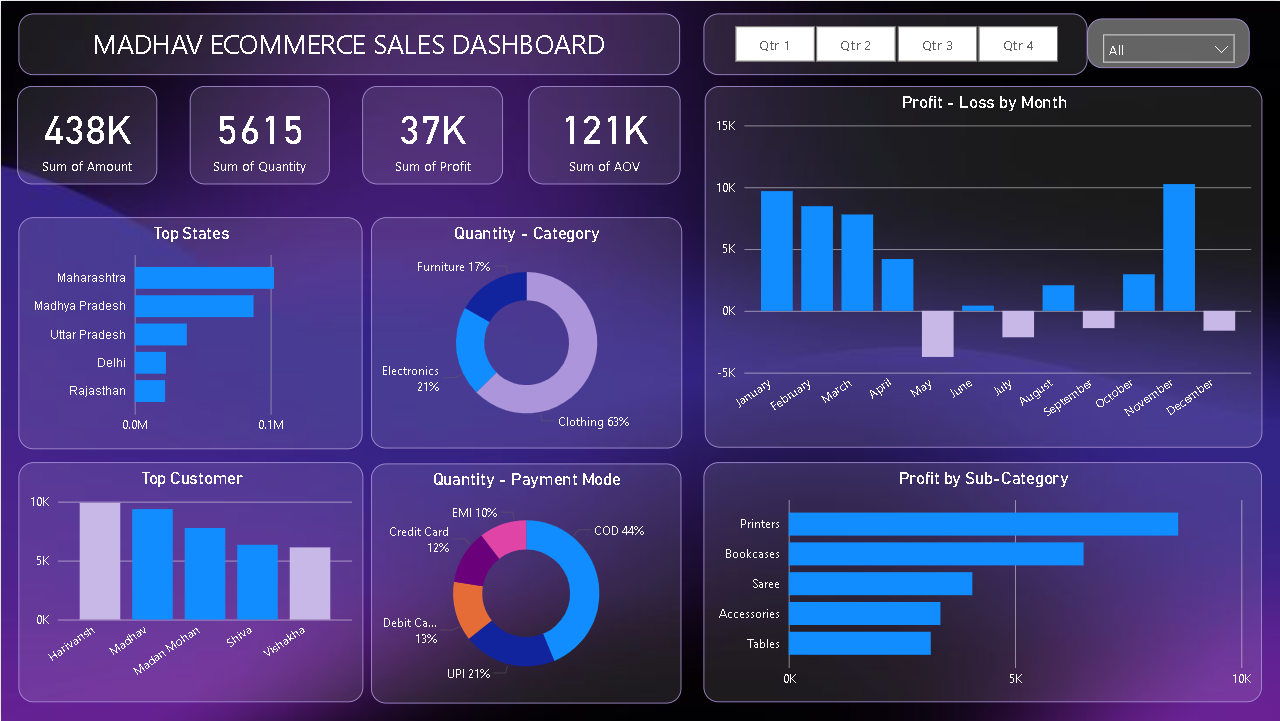

What the dashboard file says about the page in this screenshot:
{"tool":"powerbi","page":{"name":"Page 1","canvas":[1280,720],"ordinal":0},"visuals":[{"type":"textbox","box":[18.1,12,661.4,61.4],"z":0},{"type":"columnChart","title":"Profit - Loss by Month","fields":{"Y":["Details.Profit"],"Category":["Orders.Order Date.Variation.Date Hierarchy.Month"]},"box":[703.6,85.5,557.8,361.4],"z":1000},{"type":"barChart","title":"Profit by Sub-Category","fields":{"Category":["Details.Sub-Category"],"Y":["Details.Profit"]},"box":[702.1,460.9,558.6,240.1],"z":2000},{"type":"donutChart","title":"Quantity - Category","fields":{"Category":["Details.Category"],"Y":["Details.Quantity"]},"box":[369.9,215.7,310.8,231.3],"z":3000},{"type":"donutChart","title":"Quantity - Payment Mode","fields":{"Y":["Details.Quantity"],"Category":["Details.PaymentMode"]},"box":[370.4,462.1,310.1,240.1],"z":4000},{"type":"card","fields":{"Values":["Details.Amount"]},"box":[16.9,85.5,139.8,98.8],"z":5000},{"type":"card","fields":{"Values":["Details.Quantity"]},"box":[189.2,85.5,139.8,98.8],"z":6000},{"type":"card","fields":{"Values":["Details.Profit"]},"box":[361.4,85.5,141,98.8],"z":7000},{"type":"card","fields":{"Values":["Details.AOV"]},"box":[527.7,85.5,151.8,98.8],"z":8000},{"type":"barChart","title":"Top States","fields":{"Y":["Details.Amount"],"Category":["Orders.State"]},"box":[18,216,343.8,231.6],"z":9000},{"type":"columnChart","title":"Top Customer","fields":{"Category":["Orders.CustomerName"],"Y":["Details.Amount"]},"box":[16.9,460.9,345,240.1],"z":10000},{"type":"slicer","fields":{"Values":["Orders.Order Date.Variation.Date Hierarchy.Quarter"]},"box":[702.4,12,384.3,61.4],"z":11000},{"type":"slicer","fields":{"Values":["Orders.State"]},"box":[1086.7,18.1,162.7,49.4],"z":12000}]}

Visuals, with their boxes in screenshot pixels (x1, y1, x2, y2), scaled from the page's 1280x720 canvas onto the 1280x721 screenshot:
textbox: l=18, t=12, r=680, b=74
"Profit - Loss by Month" columnChart: l=704, t=86, r=1261, b=448
"Profit by Sub-Category" barChart: l=702, t=462, r=1261, b=702
"Quantity - Category" donutChart: l=370, t=216, r=681, b=448
"Quantity - Payment Mode" donutChart: l=370, t=463, r=680, b=703
card - Details.Amount: l=17, t=86, r=157, b=185
card - Details.Quantity: l=189, t=86, r=329, b=185
card - Details.Profit: l=361, t=86, r=502, b=185
card - Details.AOV: l=528, t=86, r=680, b=185
"Top States" barChart: l=18, t=216, r=362, b=448
"Top Customer" columnChart: l=17, t=462, r=362, b=702
slicer - Orders.Order Date.Variation.Date Hierarchy.Quarter: l=702, t=12, r=1087, b=74
slicer - Orders.State: l=1087, t=18, r=1249, b=68
